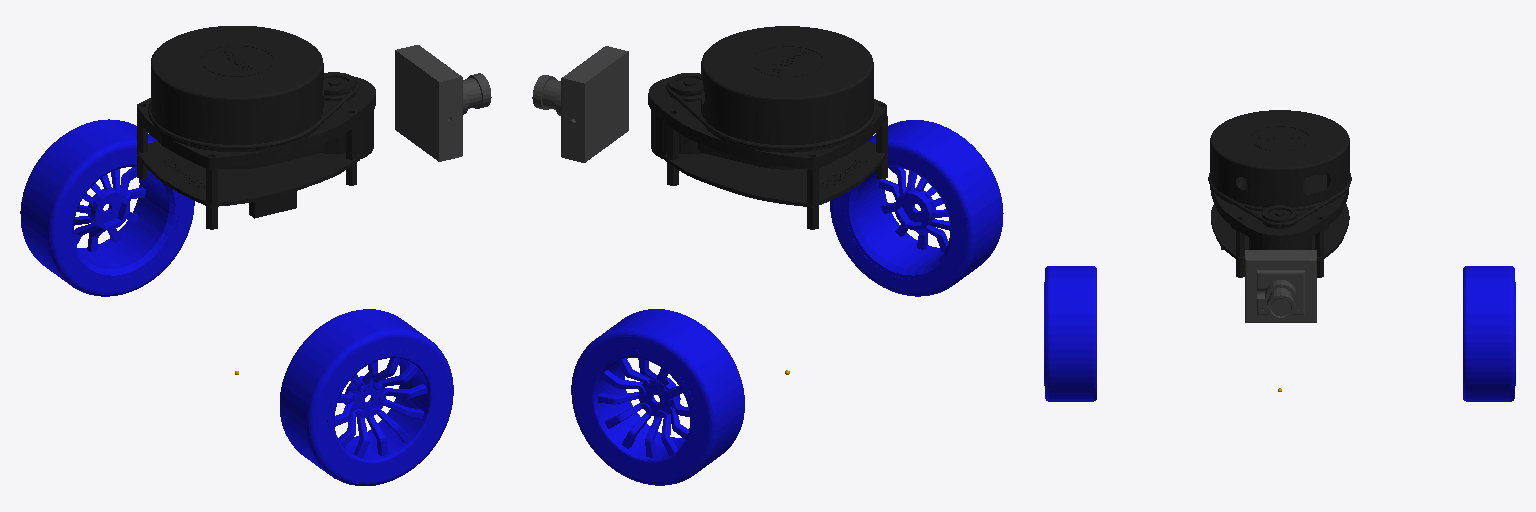
robot.urdf — tkdiffbot:
<?xml version="1.0" encoding="utf-8"?>
<robot
  name="tkdiffbot">
  <link name="base_footprint">
    <visual>
      <geometry>
          <sphere radius="0.001"/>
      </geometry>
    </visual>
  </link>
  <link
    name="base_link">
    <inertial>
      <origin
        xyz="0.010215 0.00040151 0.022558"
        rpy="0 0 0" />
      <mass
        value="0.47136" />
      <inertia
        ixx="0.00058978"
        ixy="6.0327E-06"
        ixz="-9.2669E-08"
        iyy="0.00054522"
        iyz="-8.6754E-07"
        izz="0.0010975" />
    </inertial>
    <visual>
      <origin
        xyz="0 0 0"
        rpy="0 0 0" />
      <geometry>
        <mesh
          filename="package://tkdiffbot/mesh/diff_2w/base_link.STL" />
      </geometry>
      <material
        name="">
        <color
          rgba="1.0 1.0 0.0 1" />
      </material>
    </visual>
    <collision>
      <origin
        xyz="0 0 0"
        rpy="0 0 0" />
      <geometry>
        <mesh
          filename="package://tkdiffbot/mesh/diff_2w/base_link.STL" />
      </geometry>
    </collision>
  </link>
  <joint name="baselink2basefootprint" type="fixed">
    <parent link="base_footprint"/>
    <child link="base_link"/>
    <origin xyz="0.0 0.0 0.015"/>
  </joint>
  <link
    name="letf_link">
    <inertial>
      <origin
        xyz="5.4391E-11 0.0033316 1.6754E-10"
        rpy="0 0 0" />
      <mass
        value="0.057401" />
      <inertia
        ixx="2.6249E-05"
        ixy="-6.9098E-15"
        ixz="-1.0023E-16"
        iyy="4.6054E-05"
        iyz="-2.085E-14"
        izz="2.6249E-05" />
    </inertial>
    <visual>
      <origin
        xyz="0 0 0"
        rpy="0 0 0" />
      <geometry>
        <mesh
          filename="package://tkdiffbot/mesh/diff_2w/letf_link.STL" />
      </geometry>
      <material
        name="">
        <color
          rgba="0.1 0.1 0.9 1" />
      </material>
    </visual>
    <collision>
      <origin
        xyz="0 0 0"
        rpy="0 0 0" />
      <geometry>
        <mesh
          filename="package://tkdiffbot/mesh/diff_2w/letf_link.STL" />
      </geometry>
    </collision>
  </link>
  <joint
    name="left_joint"
    type="continuous">
    <origin
      xyz="0 0.1018 0.016306"
      rpy="0 0 0" />
    <parent
      link="base_link" />
    <child
      link="letf_link" />
    <axis
      xyz="0 1 0" />
  </joint>
  <link
    name="right_link">
    <inertial>
      <origin
        xyz="-6.052E-11 -0.0033316 -1.6407E-10"
        rpy="0 0 0" />
      <mass
        value="0.057401" />
      <inertia
        ixx="2.6249E-05"
        ixy="1.3793E-16"
        ixz="1.2016E-15"
        iyy="4.6054E-05"
        iyz="-2.3189E-14"
        izz="2.6249E-05" />
    </inertial>
    <visual>
      <origin
        xyz="0 0 0"
        rpy="0 0 0" />
      <geometry>
        <mesh
          filename="package://tkdiffbot/mesh/diff_2w/right_link.STL" />
      </geometry>
      <material
        name="">
        <color
        rgba="0.1 0.1 0.9 1" />
      </material>
    </visual>
    <collision>
      <origin
        xyz="0 0 0"
        rpy="0 0 0" />
      <geometry>
        <mesh
          filename="package://tkdiffbot/mesh/diff_2w/right_link.STL" />
      </geometry>
    </collision>
  </link>
  <joint
    name="right_joint"
    type="continuous">
    <origin
      xyz="0 -0.1018 0.016306"
      rpy="0 0 0" />
    <parent
      link="base_link" />
    <child
      link="right_link" />
    <axis
      xyz="0 1 0" />
  </joint>
  <link
    name="laser">
    <inertial>
      <origin
        xyz="0.0077193 0.0001201 -0.010702"
        rpy="0 0 0" />
      <mass
        value="0.16249" />
      <inertia
        ixx="7.2364E-05"
        ixy="2.8636E-07"
        ixz="1.5726E-05"
        iyy="0.0001121"
        iyz="-4.0147E-07"
        izz="0.00013003" />
    </inertial>
    <visual>
      <origin
        xyz="0 0 0"
        rpy="0 0 0" />
      <geometry>
        <mesh
          filename="package://tkdiffbot/mesh/diff_2w/laser_link.STL" />
      </geometry>
      <material
        name="">
        <color
          rgba="0.15 0.15 0.15 1" />
      </material>
    </visual>
    <collision>
      <origin
        xyz="0 0 0"
        rpy="0 0 0" />
      <geometry>
        <mesh
          filename="package://tkdiffbot/mesh/diff_2w/laser_link.STL" />
      </geometry>
    </collision>
  </link>
  <joint
    name="laser"
    type="fixed">
    <origin
      xyz="-0.0013998 -0.0004849 0.11316"
      rpy="0 0 0" />
    <parent
      link="base_link" />
    <child
      link="laser" />
    <axis
      xyz="0 0 0" />
  </joint>
  <link
    name="camera">
    <inertial>
      <origin
        xyz="-0.014813 2.6086E-05 -1.2986E-09"
        rpy="0 0 0" />
      <mass
        value="0.018279" />
      <inertia
        ixx="3.2476E-06"
        ixy="-2.1188E-09"
        ixz="1.3504E-13"
        iyy="2.4033E-06"
        iyz="-2.3775E-13"
        izz="2.3911E-06" />
    </inertial>
    <visual>
      <origin
        xyz="0 0 0"
        rpy="0 0 0" />
      <geometry>
        <mesh
          filename="package://tkdiffbot/mesh/diff_2w/camera_link.STL" />
      </geometry>
      <material
        name="">
        <color
          rgba="0.3 0.3 0.3 1" />
      </material>
    </visual>
    <collision>
      <origin
        xyz="0 0 0"
        rpy="0 0 0" />
      <geometry>
        <mesh
          filename="package://tkdiffbot/mesh/diff_2w/camera_link.STL" />
      </geometry>
    </collision>
  </link>
  <joint
    name="camrea"
    type="fixed">
    <origin
      xyz="0.10764 0.00047 0.0843"
      rpy="0 0 0" />
    <parent
      link="base_link" />
    <child
      link="camera" />
    <axis
      xyz="0 0 0" />
  </joint>
</robot>

--- What the picture shows (computed from the rendered views, not written in the file) ---
The picture shows the robot from 3 angles, left to right: view 1: azimuth 30°, elevation 25°; view 2: azimuth 150°, elevation 25°; view 3: azimuth 270°, elevation 25°; orthographic projection.
Robot: tkdiffbot — 6 links, 5 joints (2 continuous, 3 fixed); root link base_footprint; default pose: all joints at 0.
Visible links, largest first — view 1: laser, right_link, letf_link, camera; view 2: laser, letf_link, right_link, camera; view 3: laser, letf_link, right_link, camera.
Link boxes in pixels (x1=…): laser: x1=137, y1=26, x2=375, y2=229; right_link: x1=280, y1=309, x2=453, y2=485; letf_link: x1=20, y1=119, x2=194, y2=296; camera: x1=395, y1=45, x2=491, y2=161; laser: x1=648, y1=26, x2=887, y2=229; letf_link: x1=571, y1=309, x2=744, y2=485; right_link: x1=830, y1=120, x2=1003, y2=296; camera: x1=532, y1=46, x2=628, y2=162; laser: x1=1208, y1=110, x2=1351, y2=277; letf_link: x1=1463, y1=266, x2=1515, y2=401; right_link: x1=1044, y1=266, x2=1096, y2=401; camera: x1=1245, y1=250, x2=1316, y2=322.
Bounding box of the posed robot: 0.1511 × 0.2364 × 0.1421 m (x, y, z).
Meshes: 5 distinct files referenced, 4 mesh visuals loaded (4 binary STL); not drawn: 1 (reference not matched to a file when rendering).